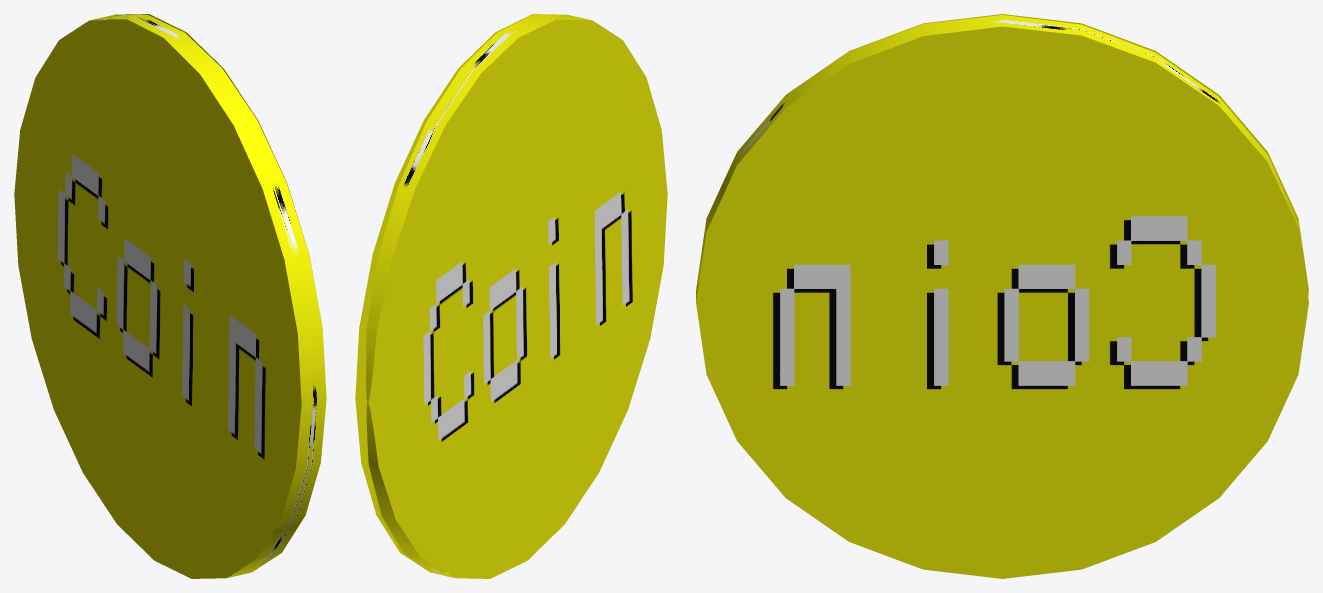
File: Coin.fbx
3 views of the same model, side by side, from view 1: azimuth 30°, elevation 25°; view 2: azimuth 150°, elevation 25°; view 3: azimuth 270°, elevation 25° (orthographic). The views are drawn at different scales.
Visible parts, largest first — view 1: Cone001; view 2: Cone001; view 3: Cone001.
Boxes of the visible parts, bbox=[...] form: Cone001: bbox=[14, 14, 326, 578]; Cone001: bbox=[355, 14, 667, 578]; Cone001: bbox=[696, 14, 1308, 578].
Size of the model in its own units: 0.8409 by 12.98 by 12.97.
1 material, 1 textured.
